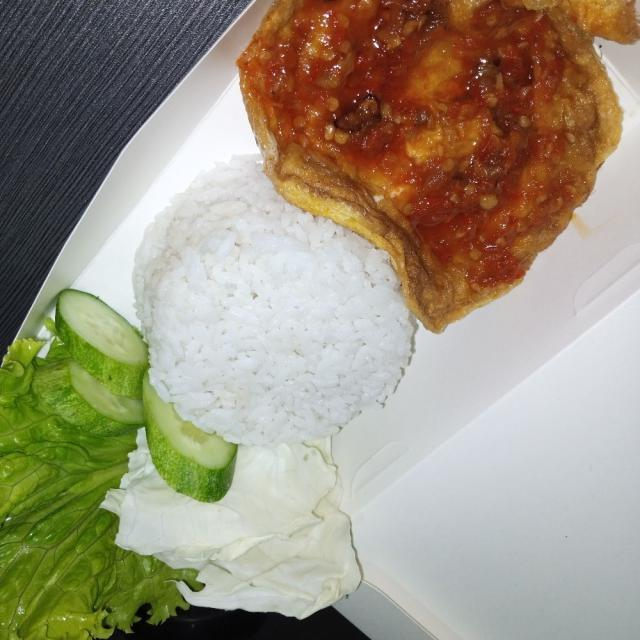nasi_putih: (118, 197, 416, 466)
telur_ayam_dadar: (235, 0, 632, 306)
